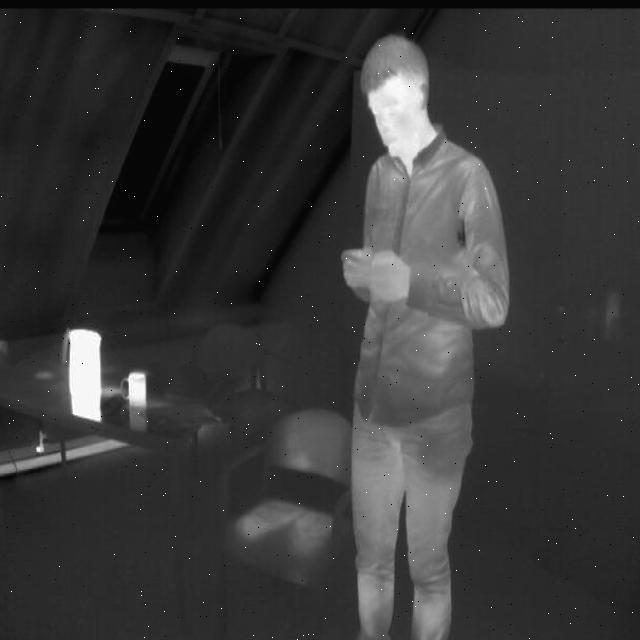person: (333, 19, 515, 640)
